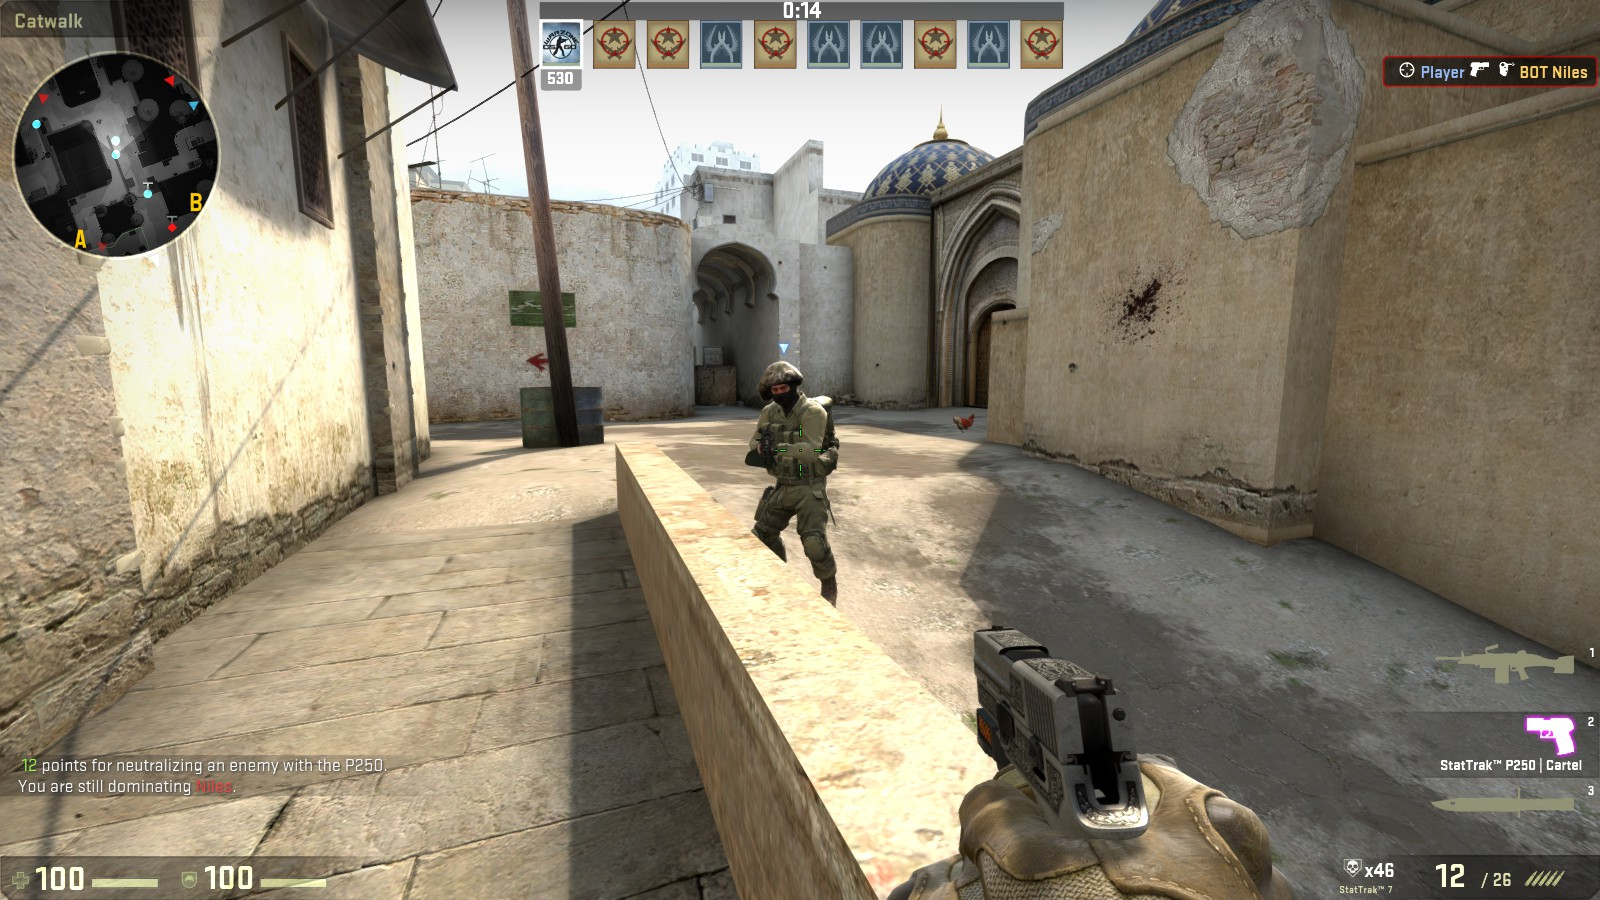c: (742, 356, 851, 613)
ch: (758, 358, 805, 411)
